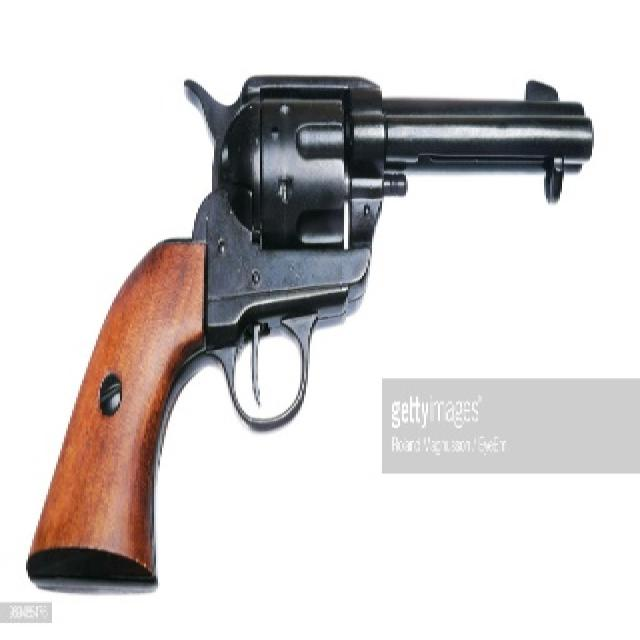handgun: (17, 67, 597, 589)
